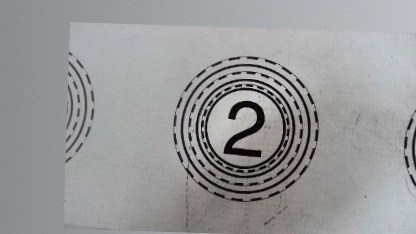2r: (168, 51, 321, 204)
